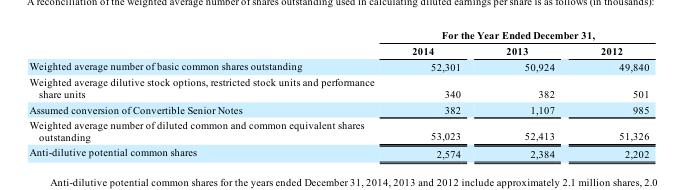table: (28, 28, 648, 158)
table column: (28, 28, 392, 158), (482, 28, 576, 158), (392, 28, 482, 158), (576, 28, 648, 158)
table column header: (28, 28, 648, 58)
table row: (28, 74, 648, 101), (28, 116, 648, 143), (28, 42, 648, 58), (28, 58, 648, 74), (28, 101, 648, 116), (28, 143, 648, 158), (28, 28, 648, 42)
table spanning cell: (392, 28, 648, 42)
